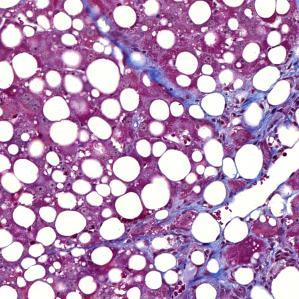fibrosis: (144, 223, 227, 281), (228, 98, 295, 154)
